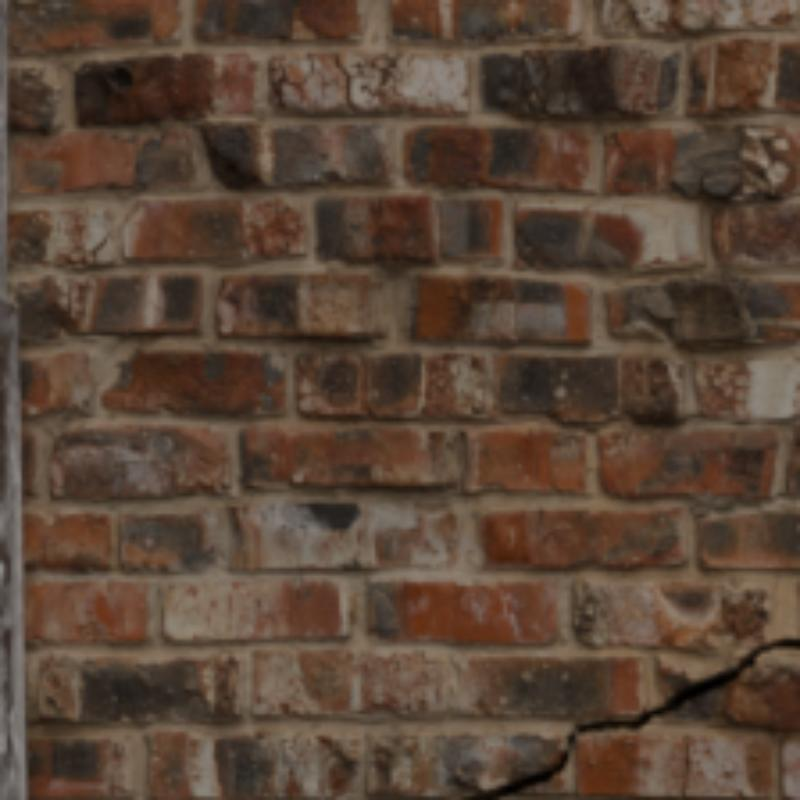pothole: (468, 639, 796, 796), (336, 54, 361, 111), (679, 739, 693, 796), (89, 236, 111, 254)
